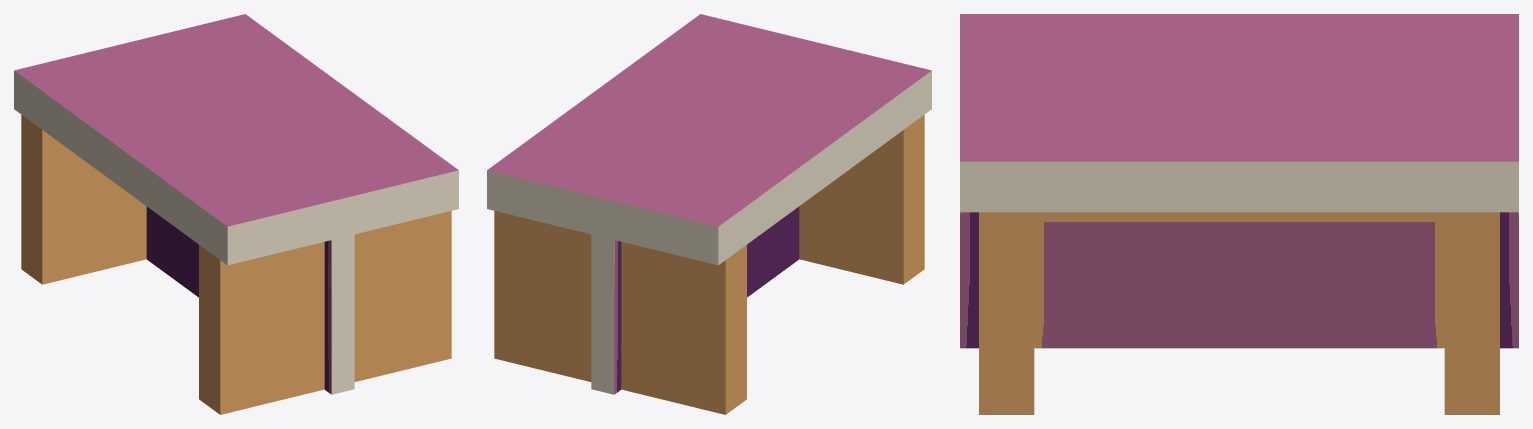
The model's file is Parada.fbx.
3 renders of one model, left to right at view 1: azimuth 30°, elevation 25°; view 2: azimuth 150°, elevation 25°; view 3: azimuth 270°, elevation 25°, orthographic. The views are drawn at different scales.
Parts seen in each view (by area): view 1: Cube.223; view 2: Cube.223; view 3: Cube.223.
Boxes of the visible parts, bbox=[...] form: Cube.223: bbox=[14, 14, 458, 414]; Cube.223: bbox=[487, 14, 931, 414]; Cube.223: bbox=[960, 14, 1518, 414].
Bounding box in the file's own units: 125 × 100 × 200.
